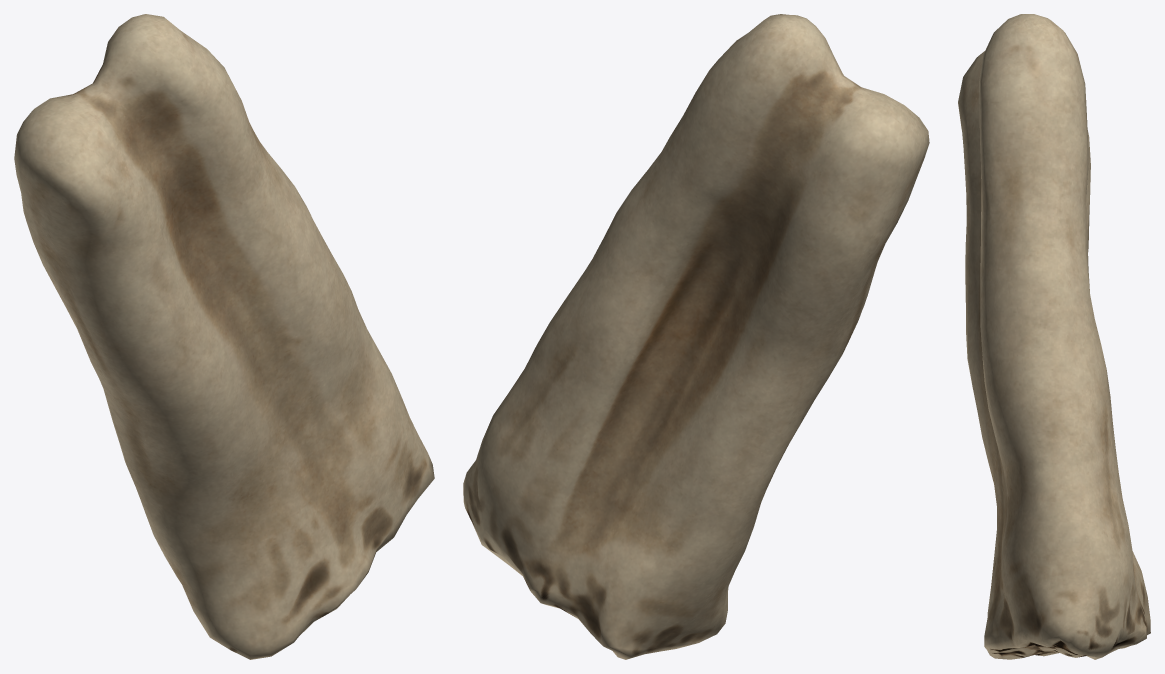
Rendered from lower_left_molar.glb.
3 renders of one model, left to right at view 1: azimuth 30°, elevation 25°; view 2: azimuth 150°, elevation 25°; view 3: azimuth 270°, elevation 25°, orthographic. The views are drawn at different scales.
Parts seen in each view (by area): view 1: ZBrush_defualt_group; view 2: ZBrush_defualt_group; view 3: ZBrush_defualt_group.
Boxes of the visible parts, x1,y1,x2,y2 form: ZBrush_defualt_group: [14, 14, 434, 659]; ZBrush_defualt_group: [463, 14, 929, 659]; ZBrush_defualt_group: [958, 14, 1150, 659].
Bounding box in the file's own units: 0.0505 × 0.0732 × 0.0214.
Materials: 1 (1 with a texture image).
